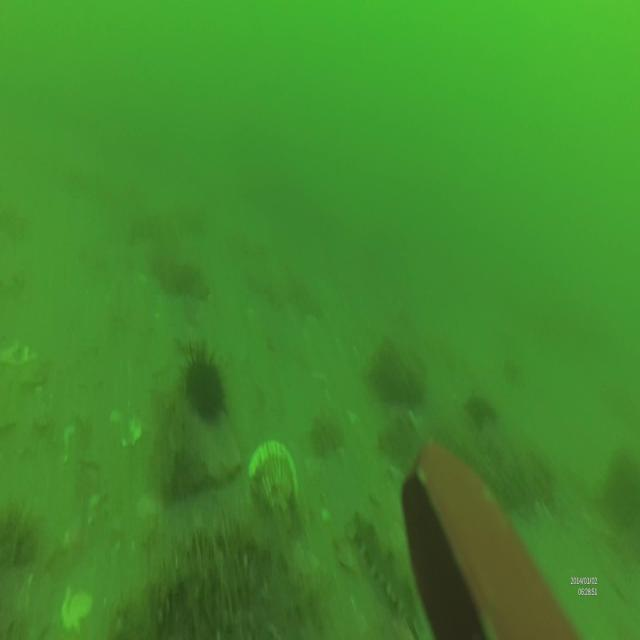echinus: (179, 340, 224, 426)
holothurian: (349, 514, 415, 620)
scallop: (241, 438, 297, 506)
